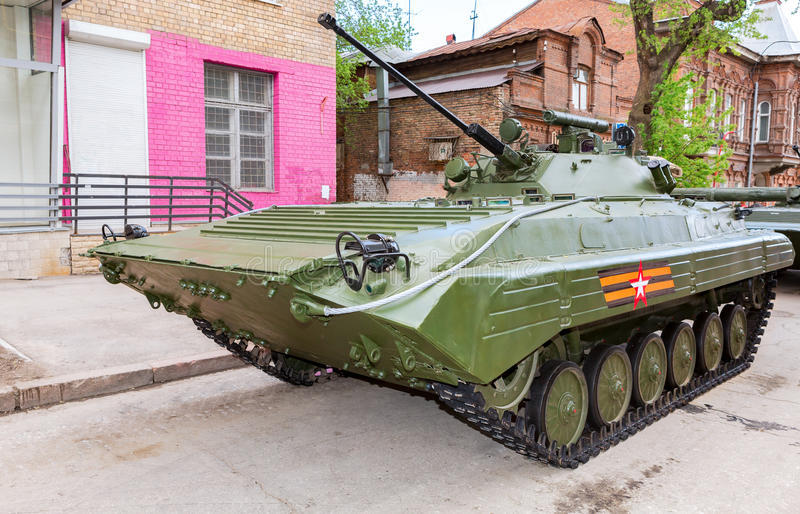bmp: (92, 136, 781, 467)
